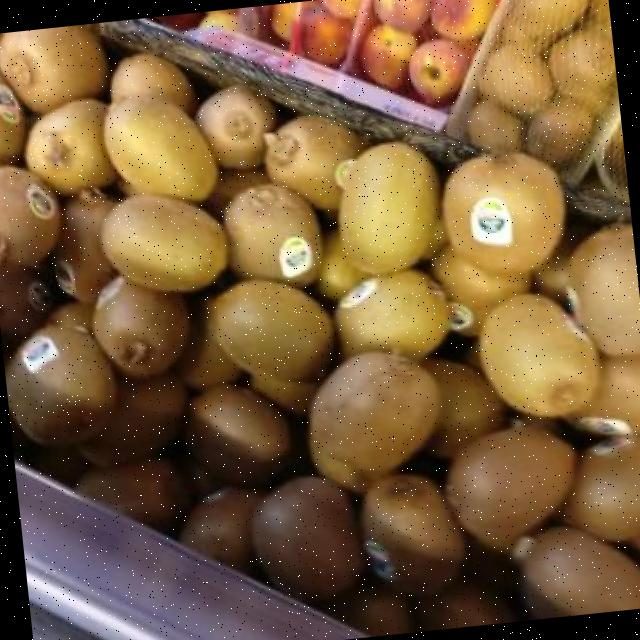kiwi: (308, 351, 439, 490), (444, 428, 575, 551), (4, 303, 115, 442), (477, 293, 598, 416), (441, 152, 561, 270), (333, 142, 439, 273), (252, 476, 361, 597), (209, 280, 332, 380), (100, 194, 226, 289), (363, 474, 463, 593), (103, 98, 216, 200), (520, 526, 640, 619), (186, 386, 289, 484), (336, 269, 449, 357), (224, 183, 320, 284), (79, 373, 183, 466), (568, 225, 640, 353), (263, 116, 363, 208), (0, 23, 105, 110), (93, 275, 185, 373), (431, 244, 529, 334), (24, 99, 114, 193), (420, 357, 504, 457), (75, 459, 187, 528), (567, 436, 640, 539), (179, 487, 262, 571), (52, 191, 113, 302), (195, 85, 274, 166), (567, 353, 640, 434), (0, 167, 57, 263), (177, 303, 240, 389), (0, 265, 55, 361), (415, 580, 514, 631), (111, 53, 194, 112), (331, 585, 409, 636), (250, 374, 317, 415), (0, 75, 24, 163), (325, 198, 337, 204)
